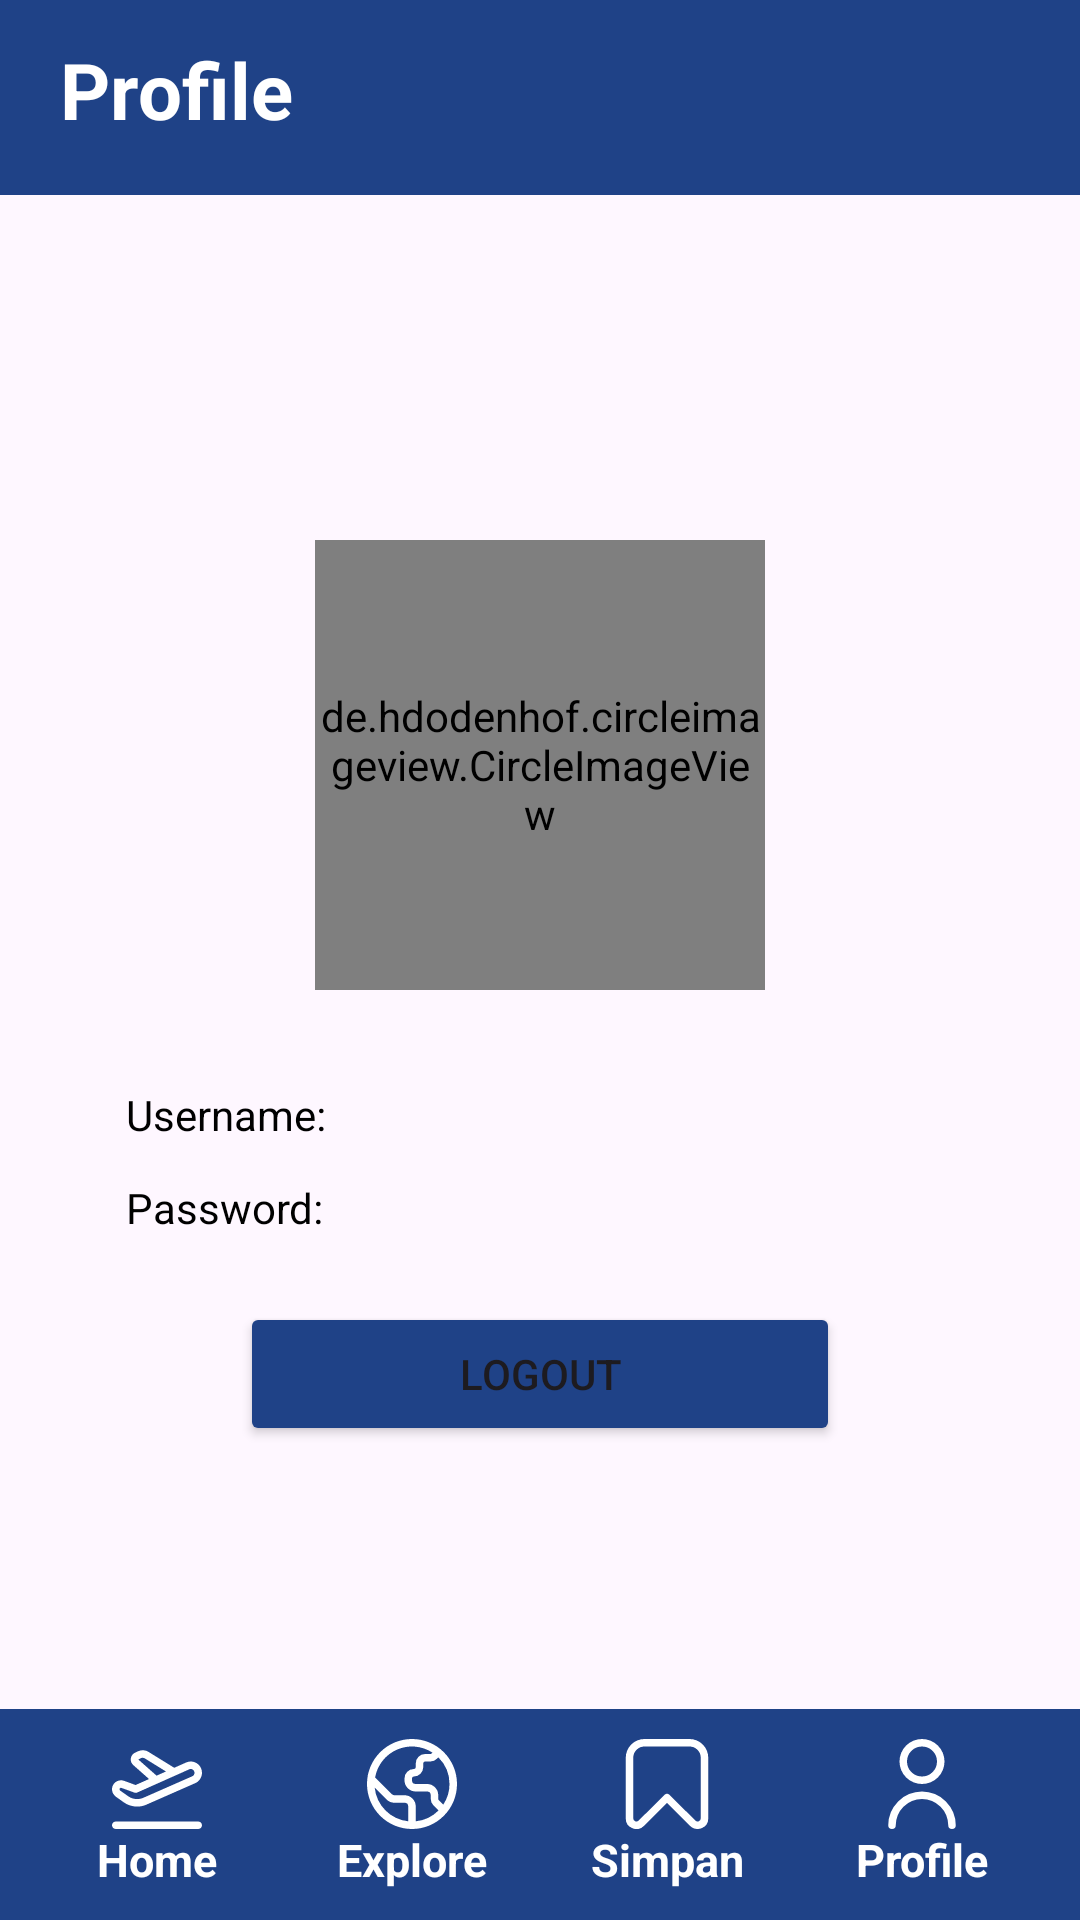

Where to tap for icons on this 1080px×1920px app screen, as [x,y]:
plane: [157,1789]
user: [922,1784]
world: [412,1784]
